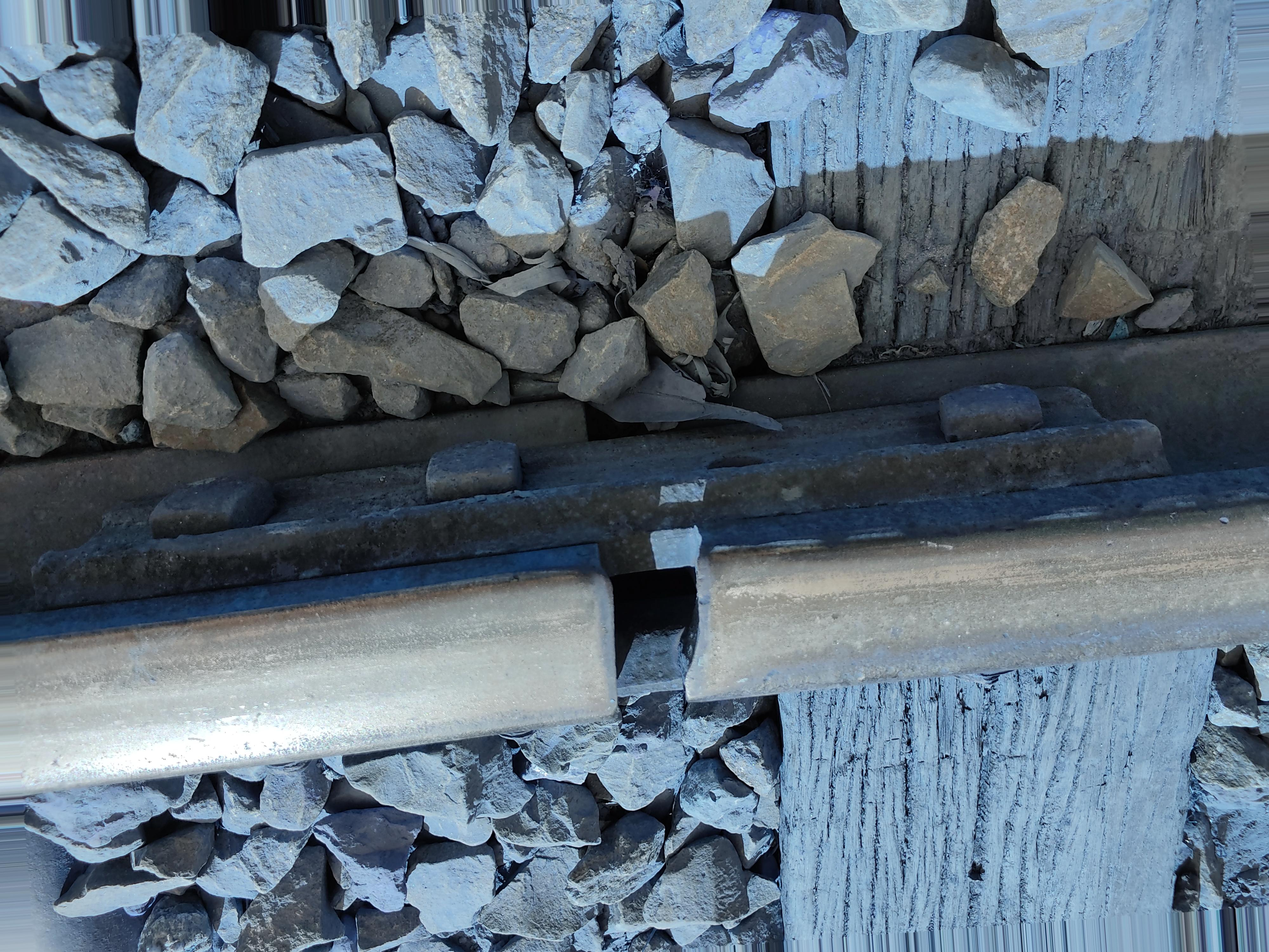tracks_fault: (544, 513, 780, 764)
